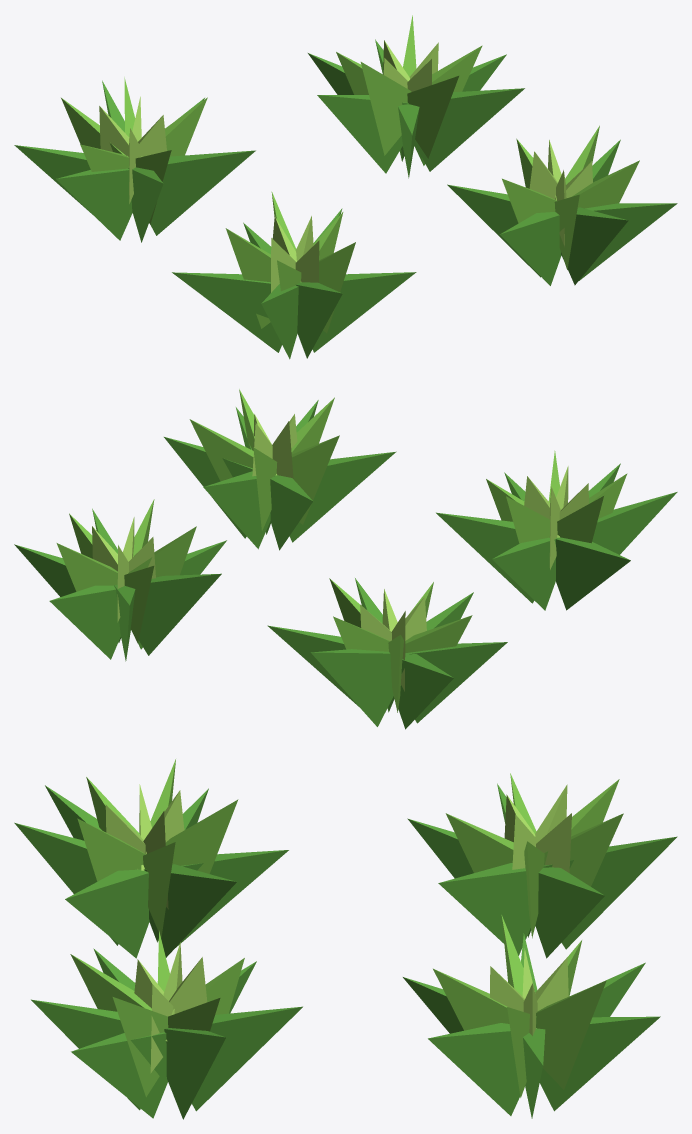
The model's file is lettuce-3.glb.
The picture shows the model from 3 angles, top to bottom: view 1: azimuth 30°, elevation 25°; view 2: azimuth 150°, elevation 25°; view 3: azimuth 270°, elevation 25°; orthographic projection. The views are drawn at different scales.
Visible parts, largest first — view 1: lettuce-3; view 2: lettuce-3; view 3: lettuce-3.
Boxes of the visible parts, x1=… form: lettuce-3: x1=14, y1=15, x2=677, y2=359; lettuce-3: x1=14, y1=389, x2=677, y2=729; lettuce-3: x1=14, y1=759, x2=677, y2=1119.
Size of the model in its own units: 0.7012 by 0.1884 by 0.7034.
1 material, 1 textured.
